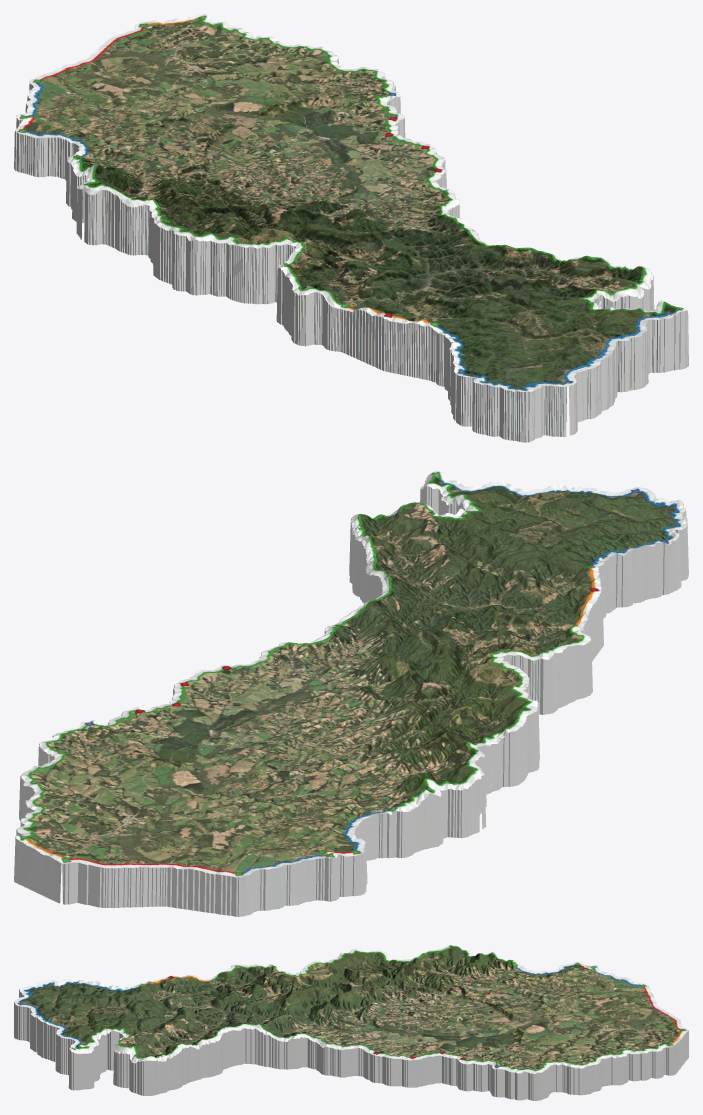
3 renders of one model, top to bottom at view 1: azimuth 30°, elevation 25°; view 2: azimuth 150°, elevation 25°; view 3: azimuth 270°, elevation 25°, orthographic. The views are drawn at different scales.
Bounding box in the file's own units: 1 × 0.1562 × 2.37.
Materials: 1 (1 with a texture image).
